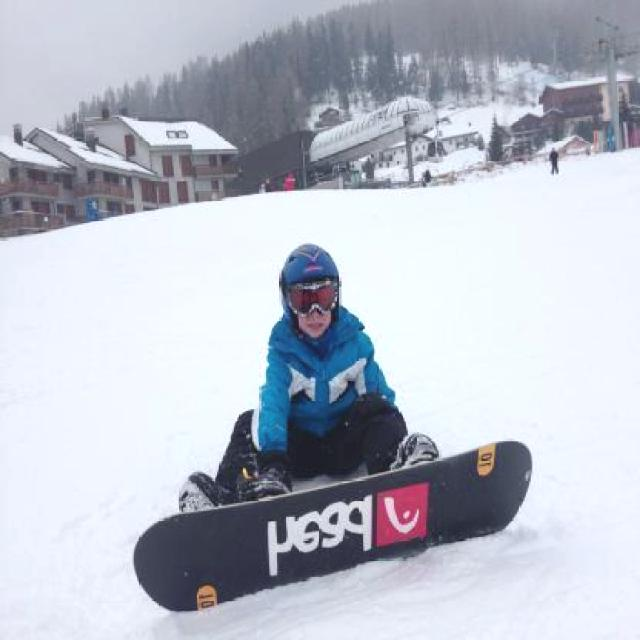glasses: (282, 280, 336, 318)
head_helmet: (268, 239, 352, 292)
person: (176, 231, 436, 544)
